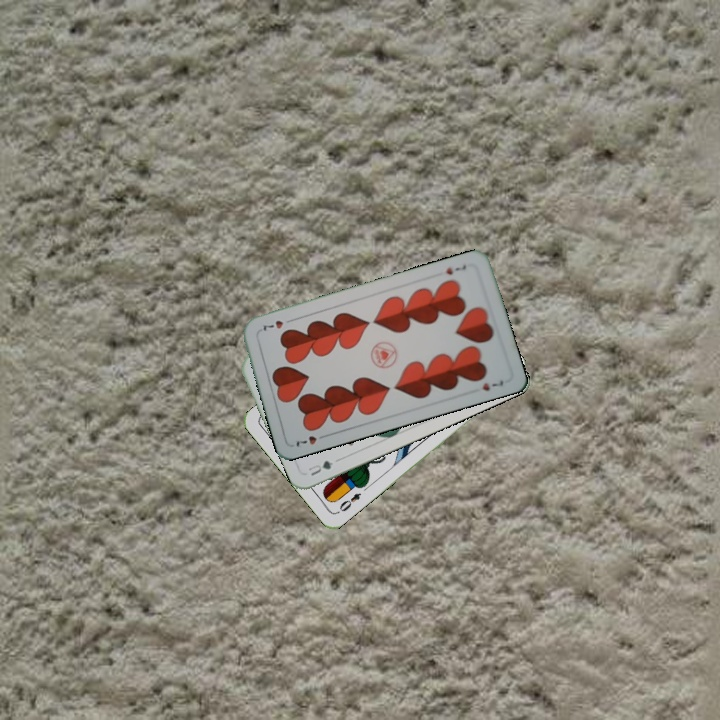EO: (333, 489, 364, 516)
GU: (304, 456, 336, 479)
H7: (291, 430, 330, 449), (442, 261, 469, 277)
